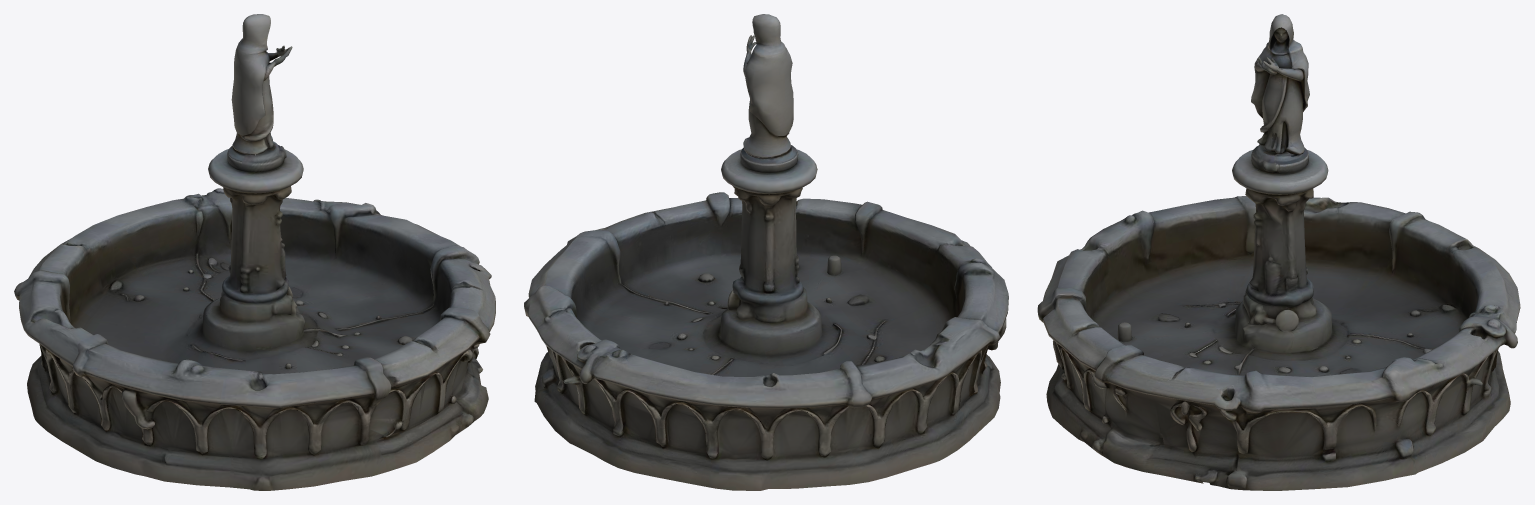
File: fountain.glb
3 renders of one model, left to right at view 1: azimuth 30°, elevation 25°; view 2: azimuth 150°, elevation 25°; view 3: azimuth 270°, elevation 25°, orthographic.
Visible parts, largest first — view 1: tripo_node_487b9a1a-d403-4fd6-a60b-6b199389aec7; view 2: tripo_node_487b9a1a-d403-4fd6-a60b-6b199389aec7; view 3: tripo_node_487b9a1a-d403-4fd6-a60b-6b199389aec7.
Part boxes in pixels (x1,y1,x2,y2): tripo_node_487b9a1a-d403-4fd6-a60b-6b199389aec7: (14, 14, 495, 490); tripo_node_487b9a1a-d403-4fd6-a60b-6b199389aec7: (524, 14, 1008, 490); tripo_node_487b9a1a-d403-4fd6-a60b-6b199389aec7: (1037, 14, 1520, 490).
Size of the model in its own units: 0.9995 by 0.8667 by 0.9995.
1 material, 1 textured.
